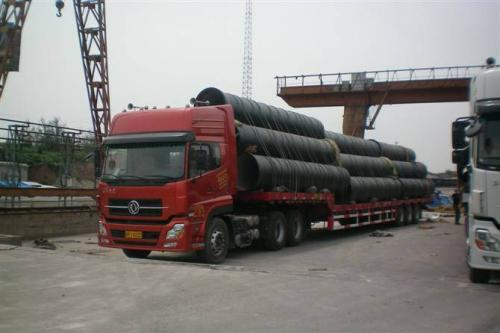chaozhai: (95, 83, 436, 269)
